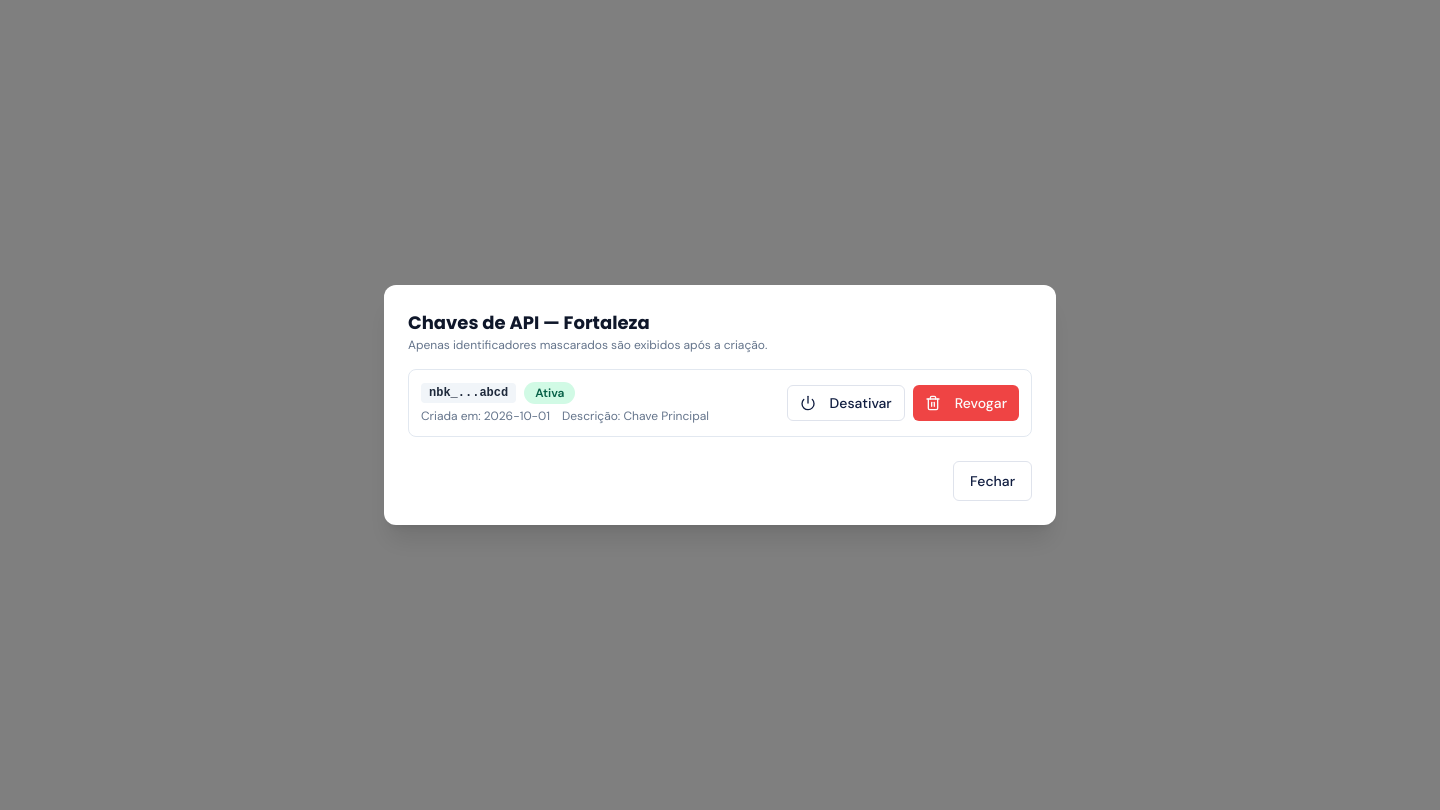
Test: View e orquestração — testes de exemplo e edge-case (Task 11.4) › exige diálogo de confirmação destrutivo antes de desativar ou revogar chave
This screenshot has width=1440, height=810.
Later steps or results of the test are not shown.
Clicar em Desativar abre confirmação destrutiva sem chamar onToggleKey ainda
Click the button with test id "toggle-api-key-key-1": (846, 403) [787,385,905,421]
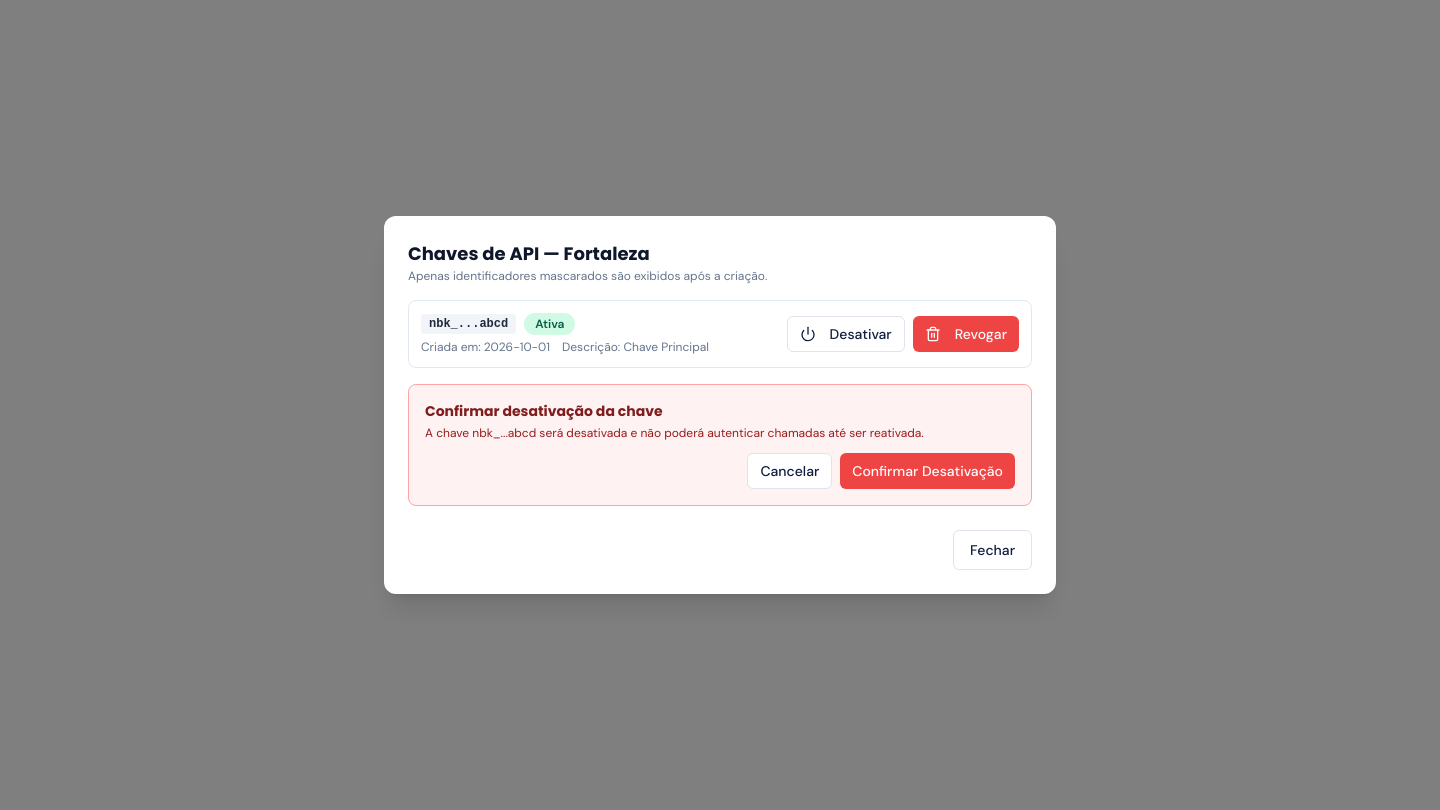
Expected: the dialog with test id "destructive-confirm-dialog" is shown, [408,384,1032,506]
Click the button with test id "confirm-destructive-action": (928, 471) [840,453,1015,489]
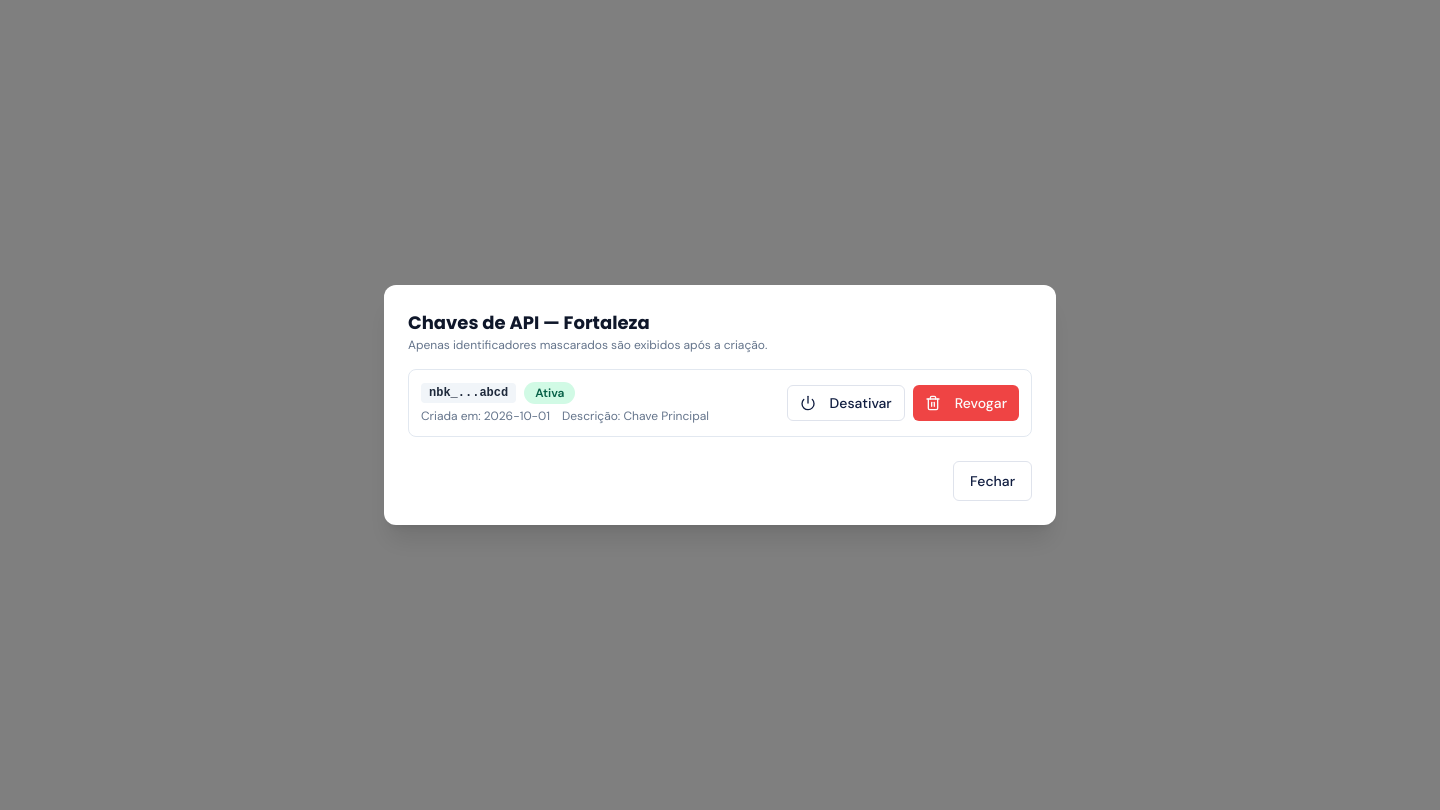
Clicar em Revogar abre confirmação destrutiva informando revogação permanente
Click the button with test id "revoke-api-key-key-1": (966, 403) [913,385,1019,421]
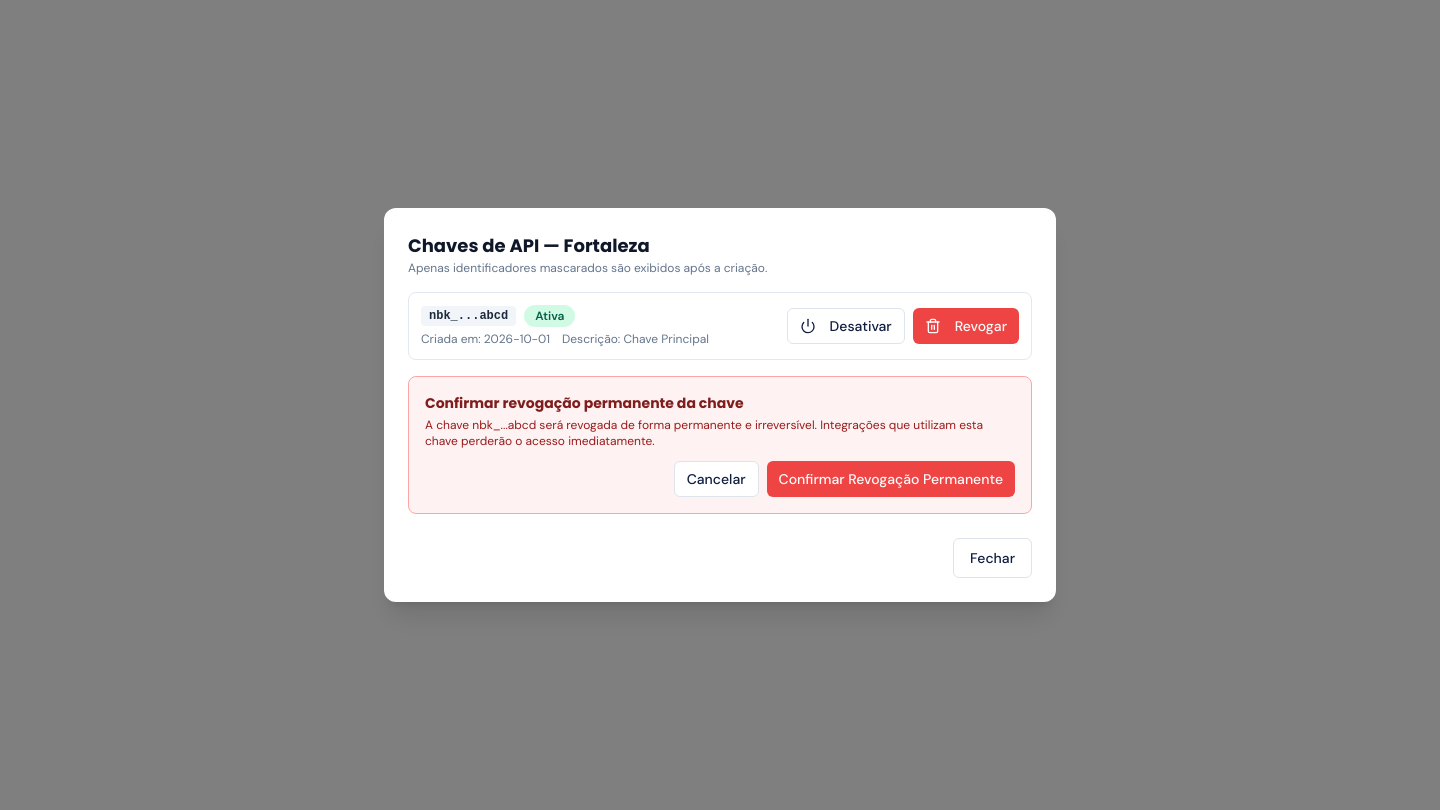
Expected: the dialog with test id "destructive-confirm-dialog" shows "permanente", [425,393,744,413]
